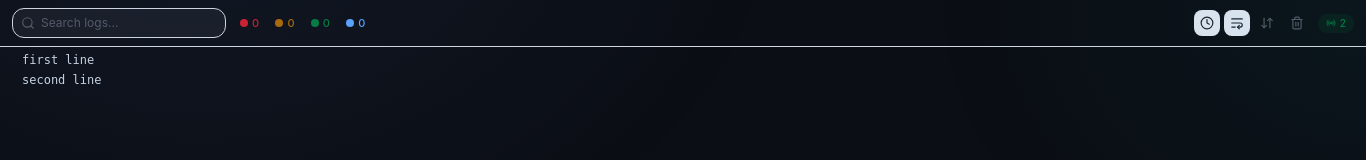
Scenario: LogsPanel › "Newest first" reverses order, and Clear empties the view
Click the button titled "Newest first". click: coordinates (1267, 23)
box: [1254, 10, 1280, 36]
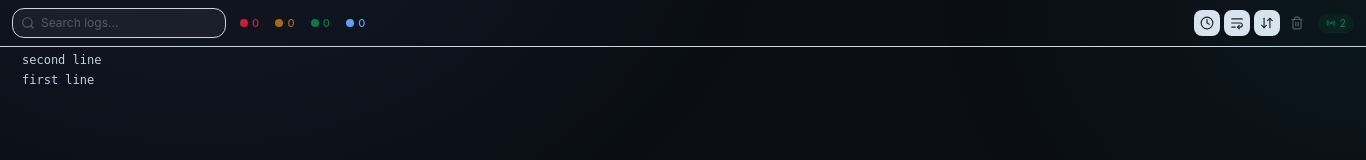
expect the text "second line" is shown: met, box [22, 51, 102, 70]
expect the text "first line" is shown: met, box [22, 70, 94, 90]
Click the button titled "Clear". click: coordinates (1297, 23)
box: [1284, 10, 1310, 36]
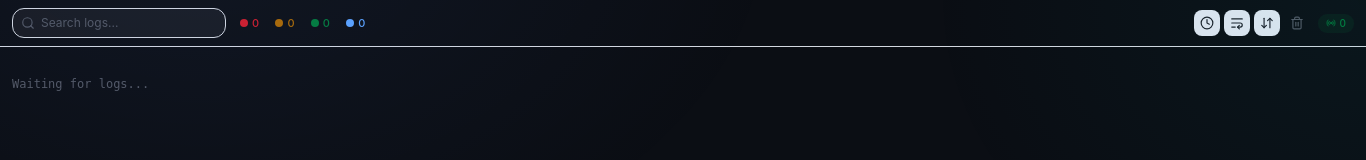
expect the text "Waiting for logs..." is shown: met, box [12, 77, 149, 91]
